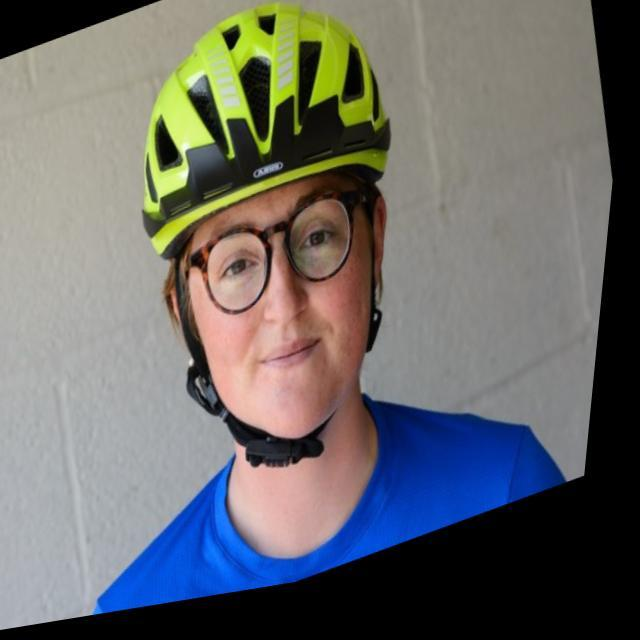Helmet: (126, 0, 394, 440)
